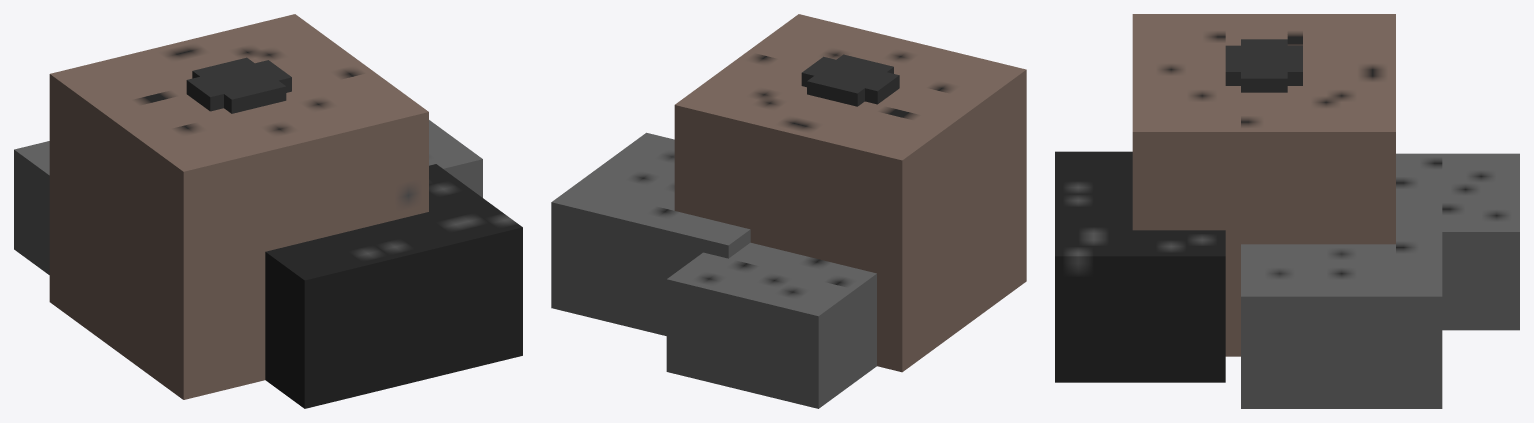
Rendered from rock.fbx.
The picture shows the model from 3 angles, left to right: view 1: azimuth 30°, elevation 25°; view 2: azimuth 150°, elevation 25°; view 3: azimuth 270°, elevation 25°; orthographic projection. The views are drawn at different scales.
Visible parts, largest first — view 1: Matrix; view 2: Matrix; view 3: Matrix.
Boxes of the visible parts, left/top/right/bottom form: Matrix: left=14, top=14, right=522, bottom=408; Matrix: left=551, top=14, right=1026, bottom=408; Matrix: left=1055, top=14, right=1519, bottom=408.
Size of the model in its own units: 26 by 17 by 30.
